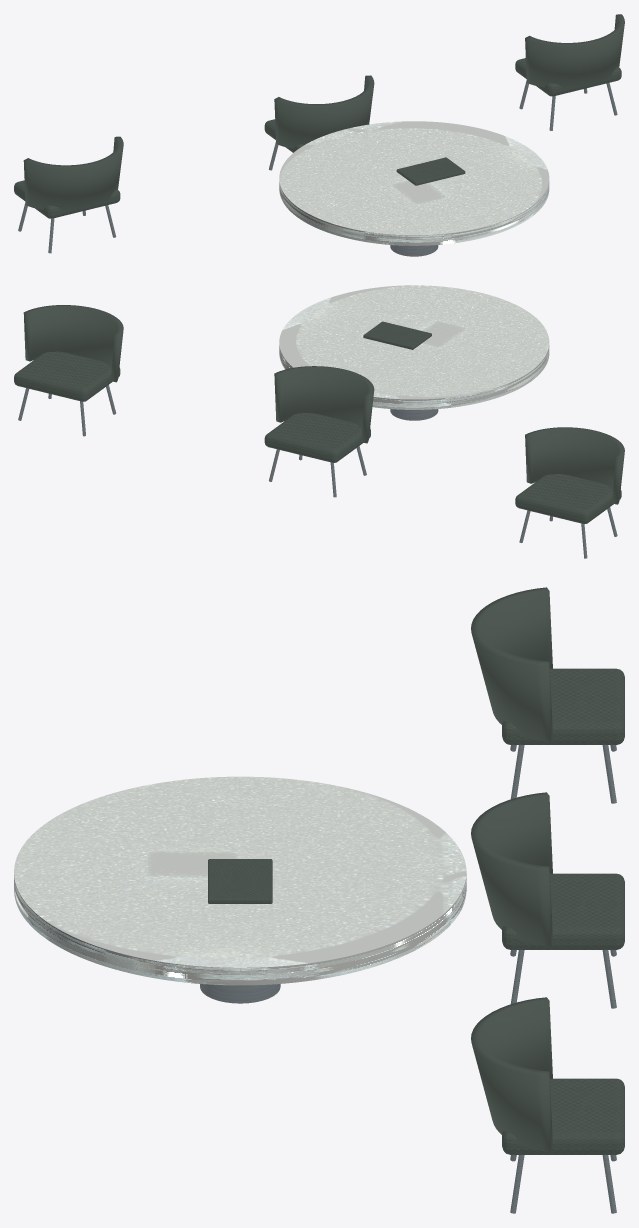
File: vision.glb
The picture shows the model from 3 angles, top to bottom: view 1: azimuth 30°, elevation 25°; view 2: azimuth 150°, elevation 25°; view 3: azimuth 270°, elevation 25°; orthographic projection. The views are drawn at different scales.
Visible parts, largest first — view 1: Static_vision; view 2: Static_vision; view 3: Static_vision.
Part boxes in pixels (left/top/right/bottom): Static_vision: left=14, top=14, right=624, bottom=256; Static_vision: left=14, top=285, right=624, bottom=558; Static_vision: left=14, top=587, right=624, bottom=1213.
Bounding box in the file's own units: 7.16 × 1.06 × 3.78.
Materials: 3 (2 with a texture image).
